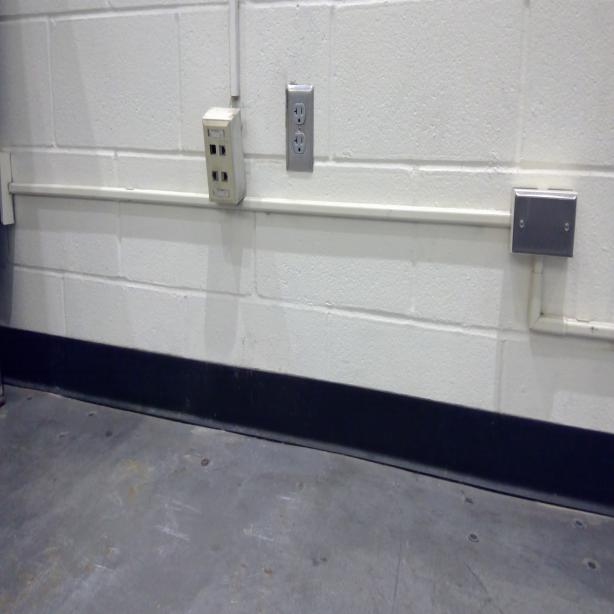typeb: (293, 101, 306, 125), (293, 135, 306, 153)
